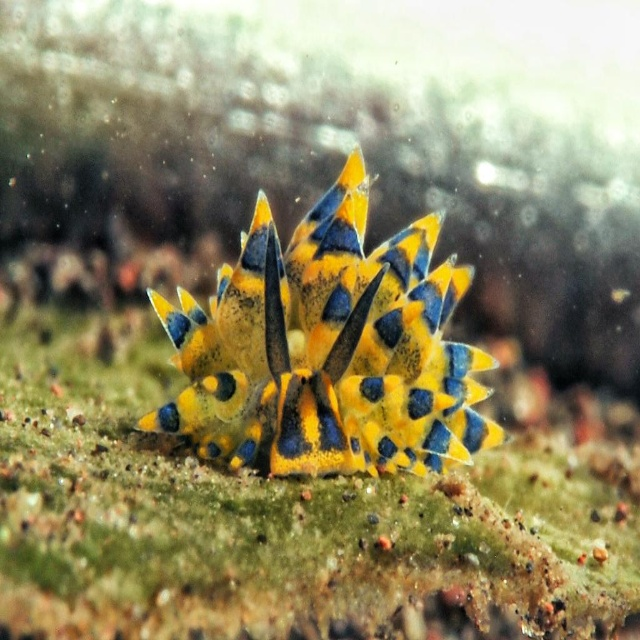Fish: (120, 155, 492, 498)
